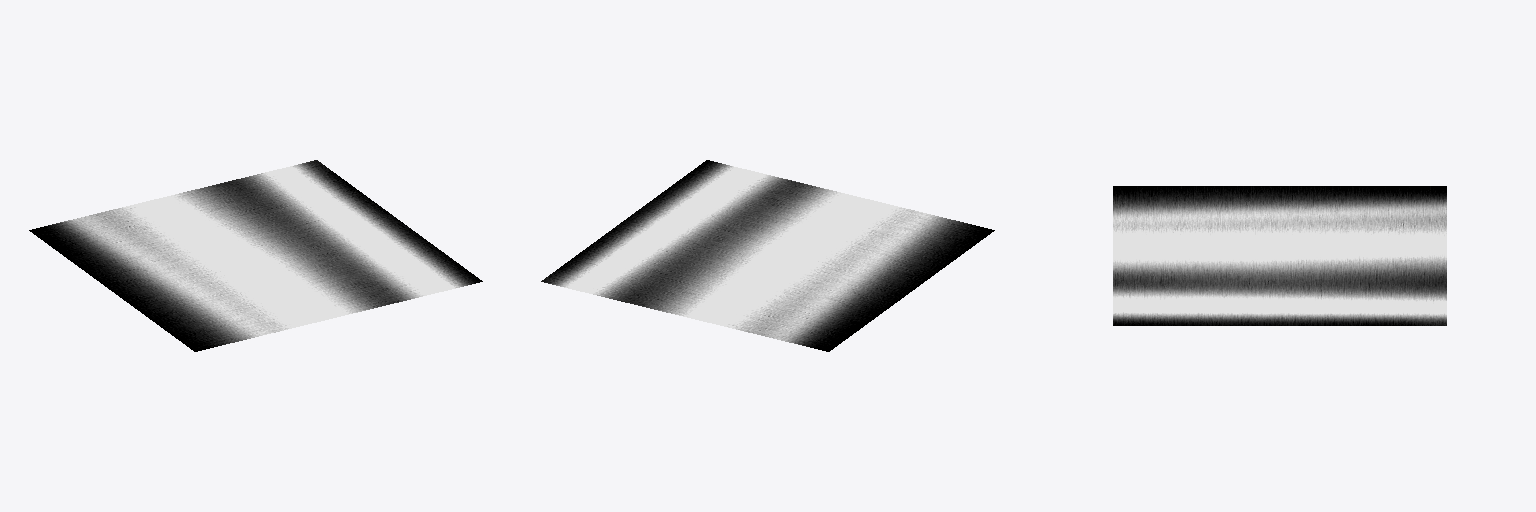
3 renders of one model, left to right at view 1: azimuth 30°, elevation 25°; view 2: azimuth 150°, elevation 25°; view 3: azimuth 270°, elevation 25°, orthographic.
Visible parts, largest first — view 1: metal_Plane.010; view 2: metal_Plane.010; view 3: metal_Plane.010.
Part boxes in pixels (x1,y1,x2,y2): metal_Plane.010: (29,160,482,351); metal_Plane.010: (541,160,994,351); metal_Plane.010: (1113,186,1446,325).
Bounding box in the file's own units: 2 × 0 × 2.
1 materials, 1 textured.